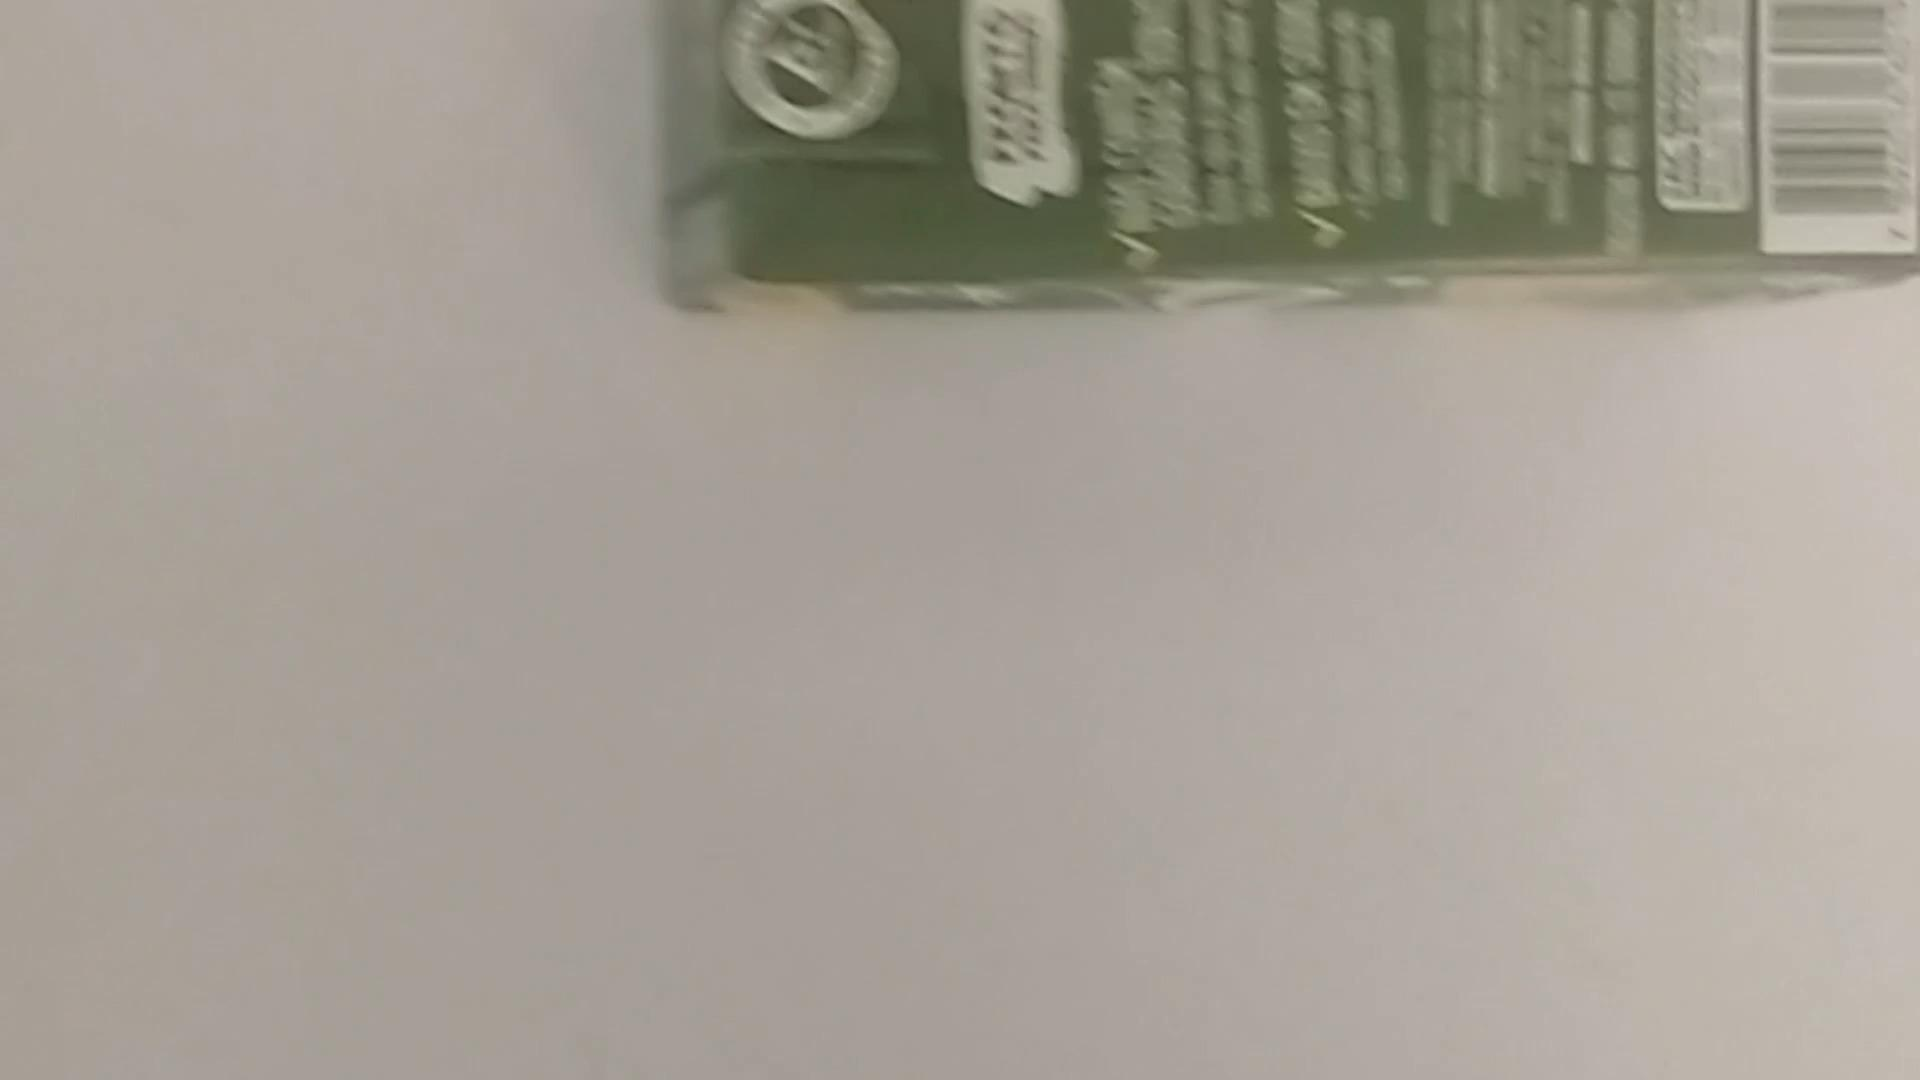coco: (650, 0, 1920, 320)
